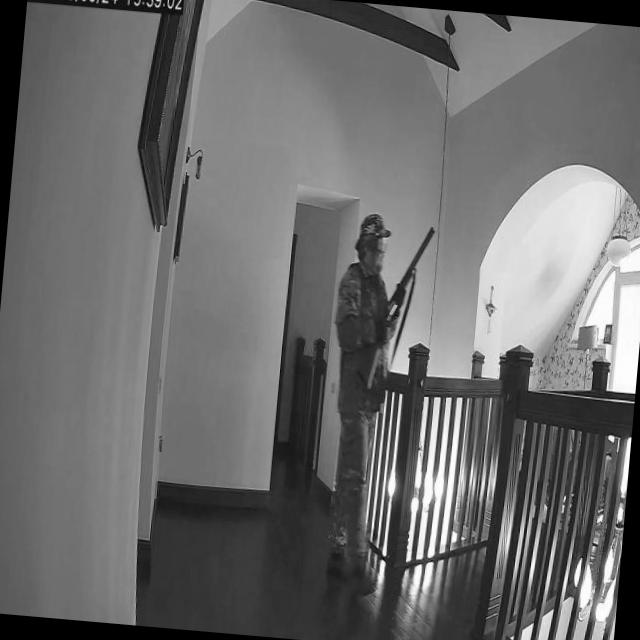gun: (357, 220, 436, 392)
person with a gun: (309, 205, 442, 604)
